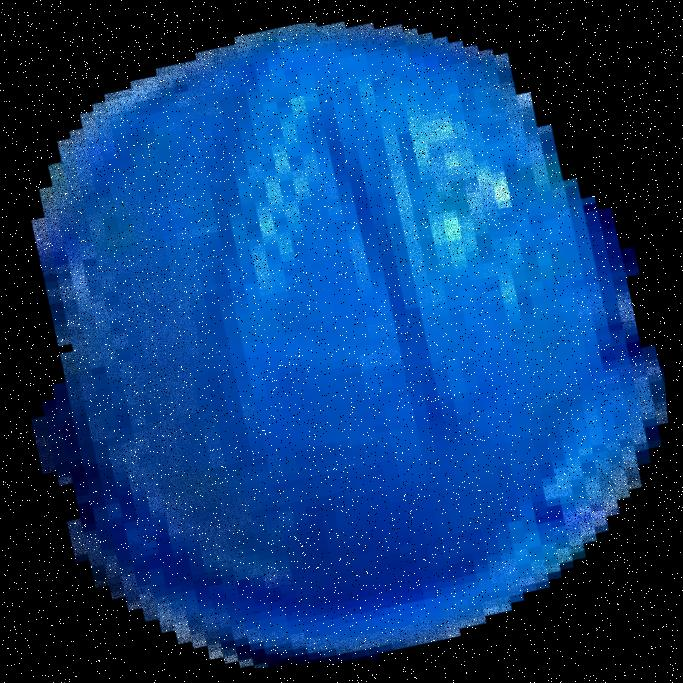Capacete: (103, 0, 571, 682)
